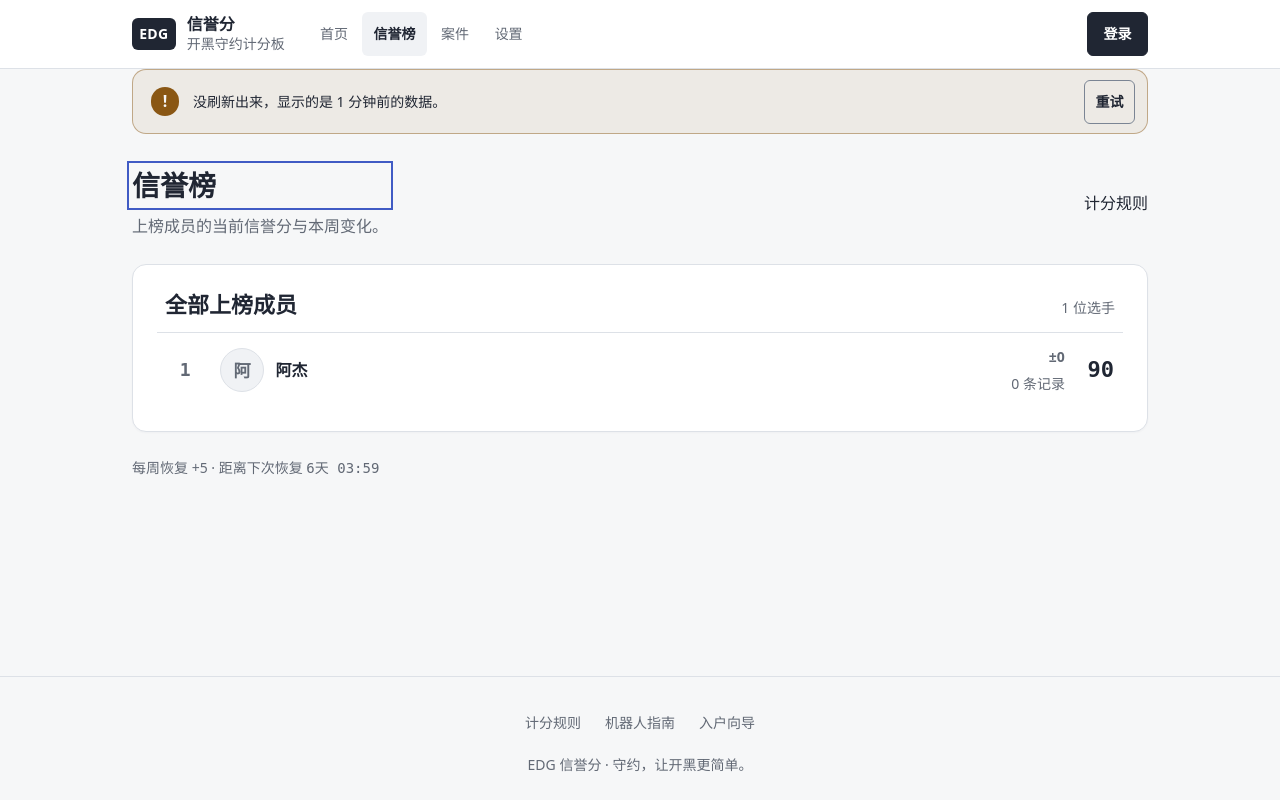
Test: App — a refresh that fails › keeps the board on screen and says so with role=status, not an alert; 重试 clears it
The width and height of the screenshot is (1280, 800).
Check: the text "没刷新出来，显示的是 1 分钟前的数据。" is shown, box [193,92,446,111]
Check: the button with aria-label "第 1 名 阿杰，90 分" is shown, box [157,333,1123,407]
Click the button "重试" at (1110, 102), box [1084,80,1135,124]
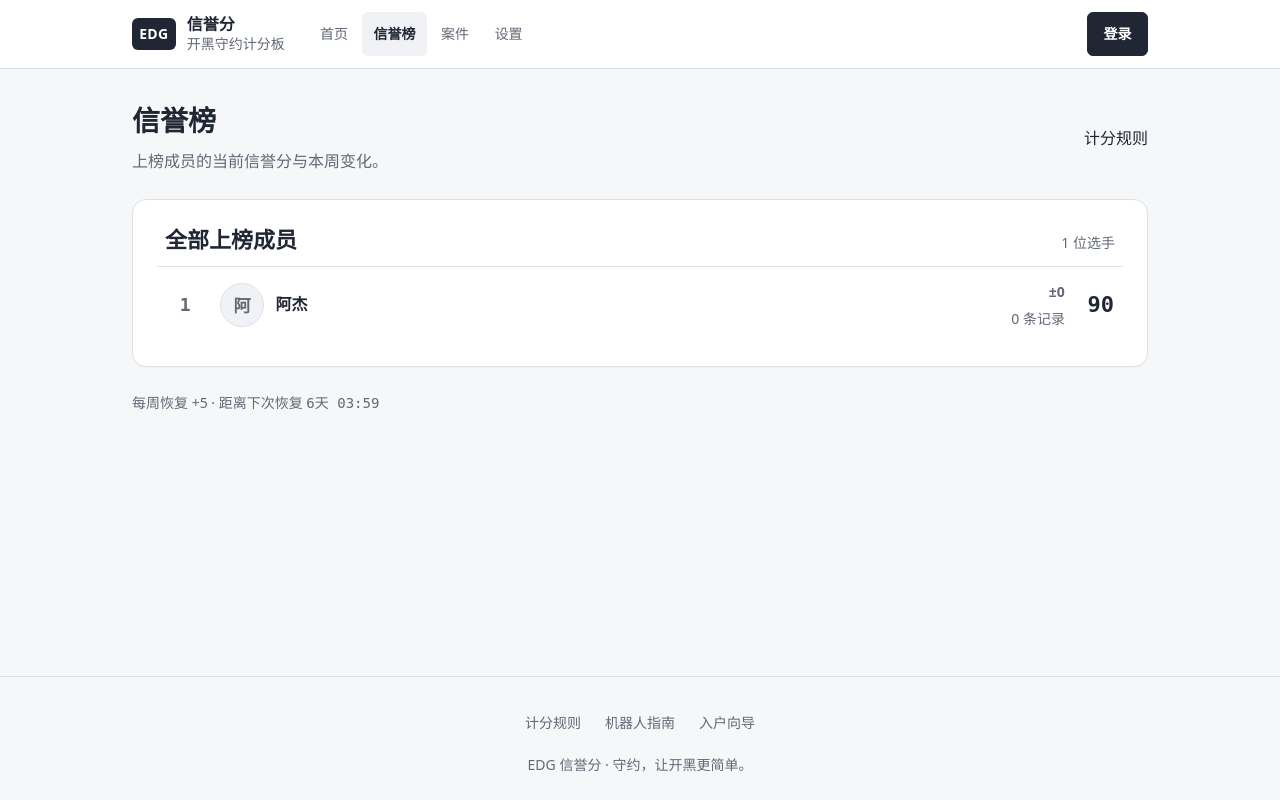
Check: the text "没刷新出来" is gone
